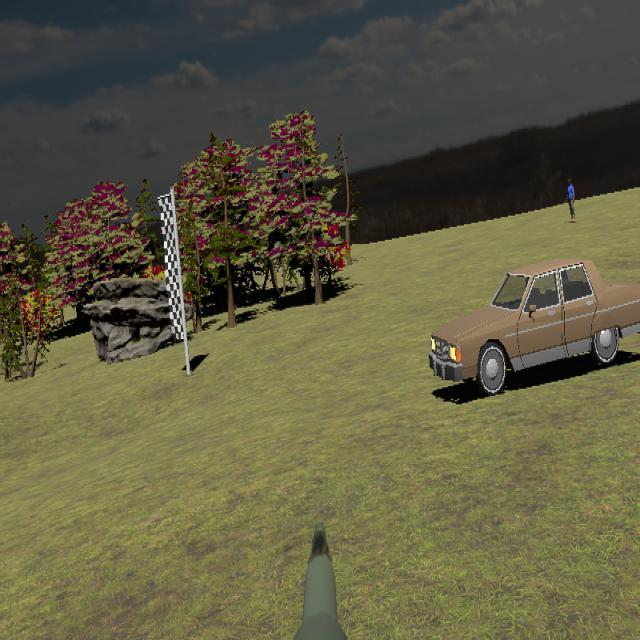Human: (566, 177, 576, 224)
car: (427, 260, 640, 395)
